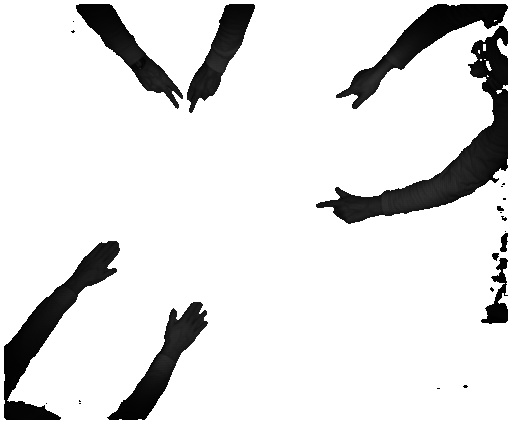hand: (133, 67, 185, 119), (336, 62, 388, 111), (164, 296, 207, 355), (313, 184, 375, 223), (74, 240, 119, 293), (187, 74, 223, 119)
